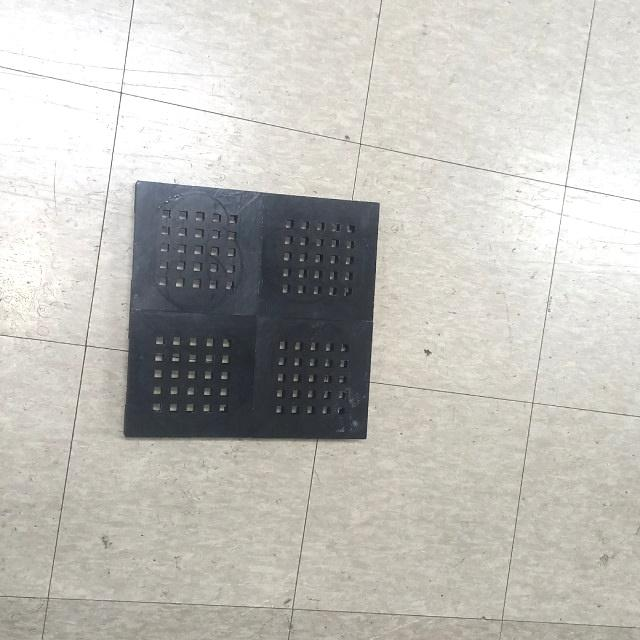pallet: (120, 174, 384, 445)
